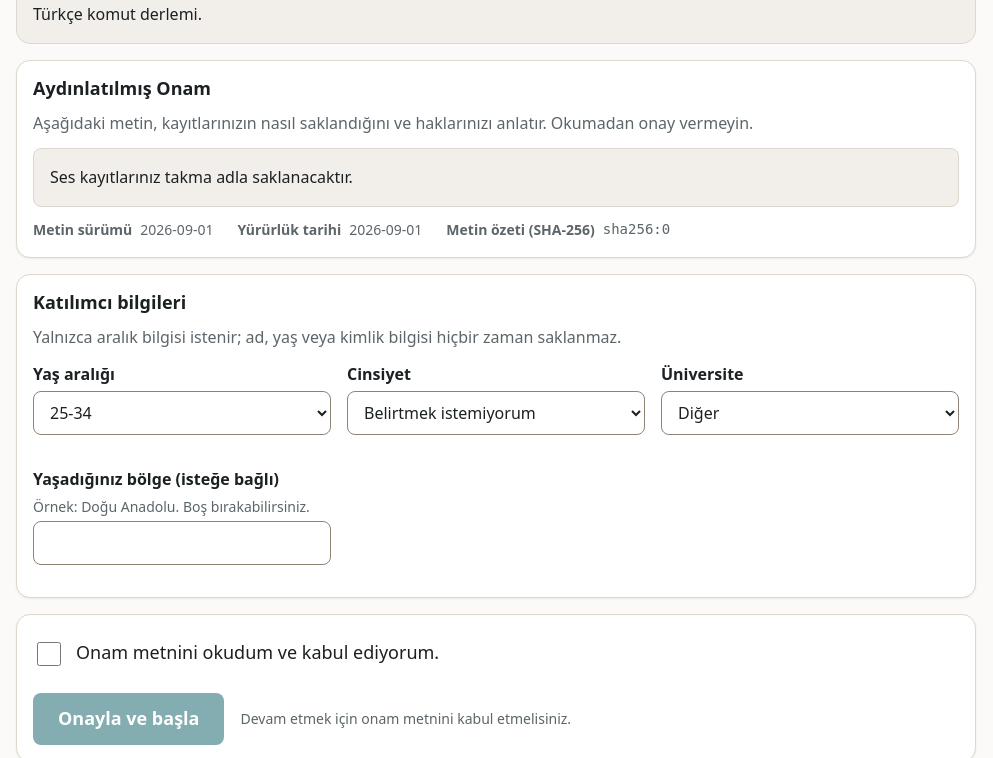
Scenario: consent gate › sends band-only demographics and then unlocks the reading loop
The image size is (993, 758).
(page scrolled)
Click the checkbox labelled "Onam metnini okudum ve kabul ediyorum.".
click(49, 654)  # box x1=37 y1=642 x2=61 y2=666
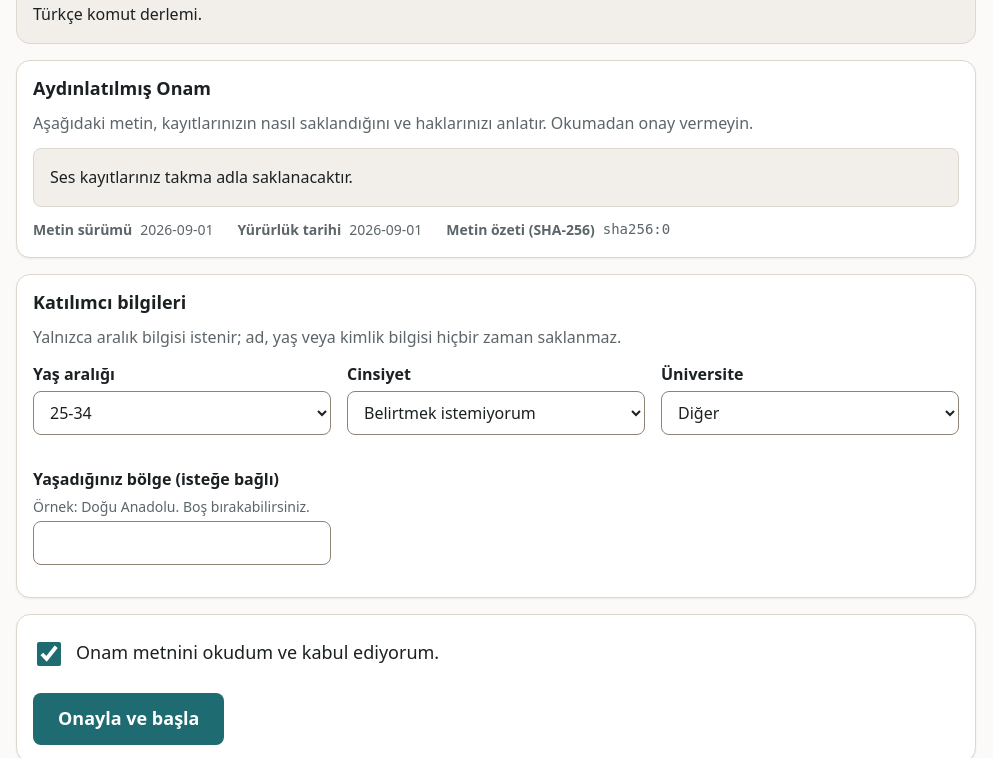
Click the button "Onayla ve başla".
click(129, 719)  # box x1=33 y1=693 x2=224 y2=745
(page scrolled)
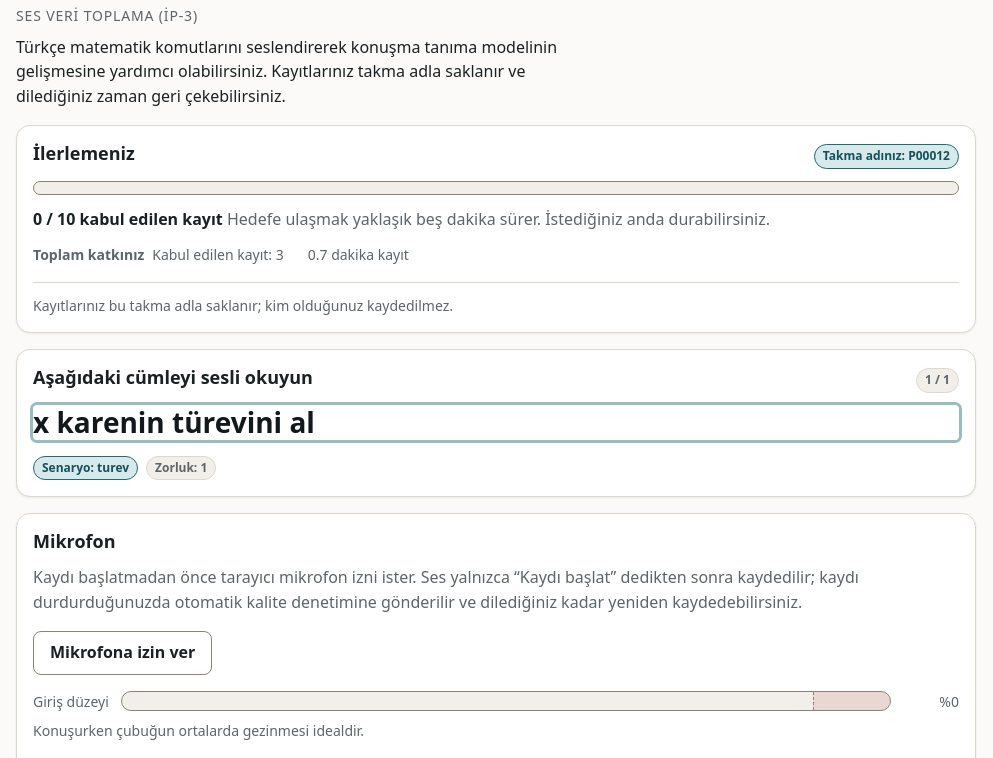
Expected: the text with test id "prompt-sentence" reads "x karenin türevini al", x1=33 y1=403 x2=315 y2=441
